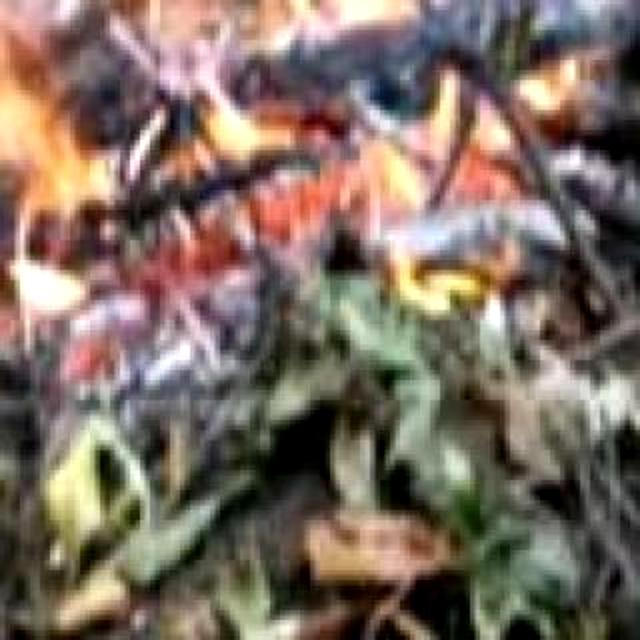fire: (0, 0, 565, 349)
